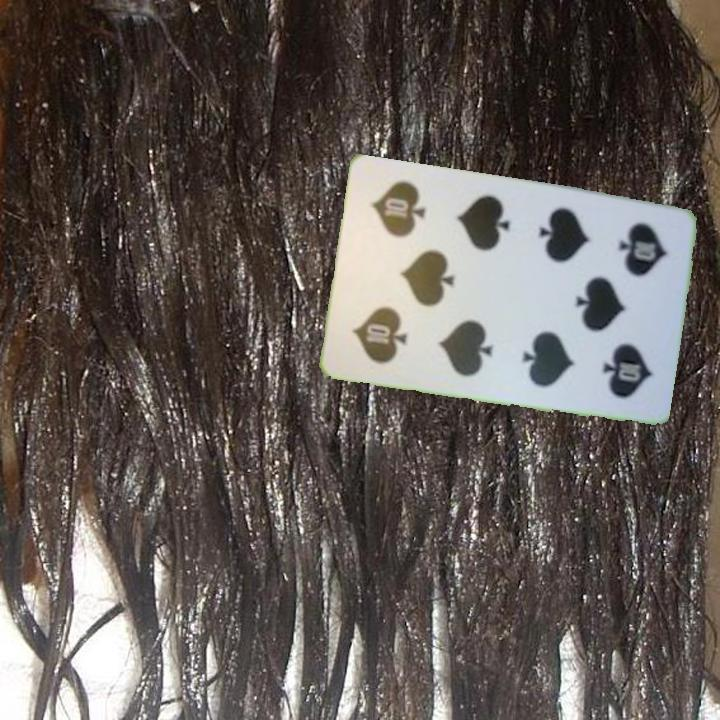s_10.png: (583, 207, 683, 318), (336, 264, 435, 375)
